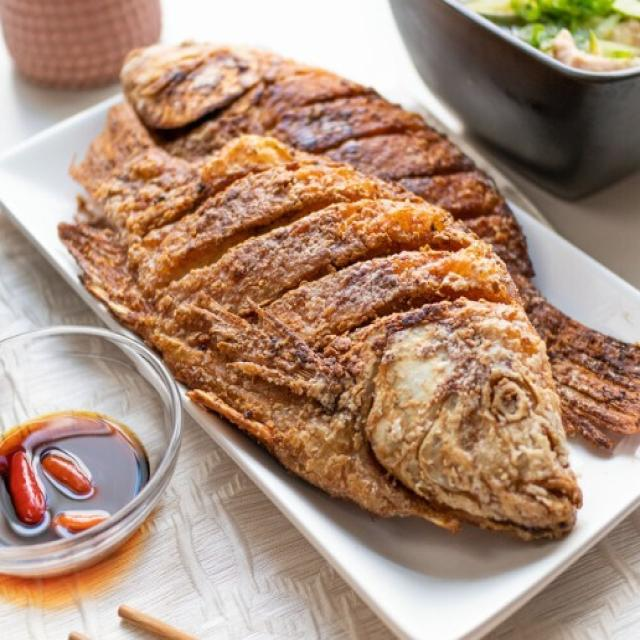FISH FRY: (56, 50, 639, 541)
